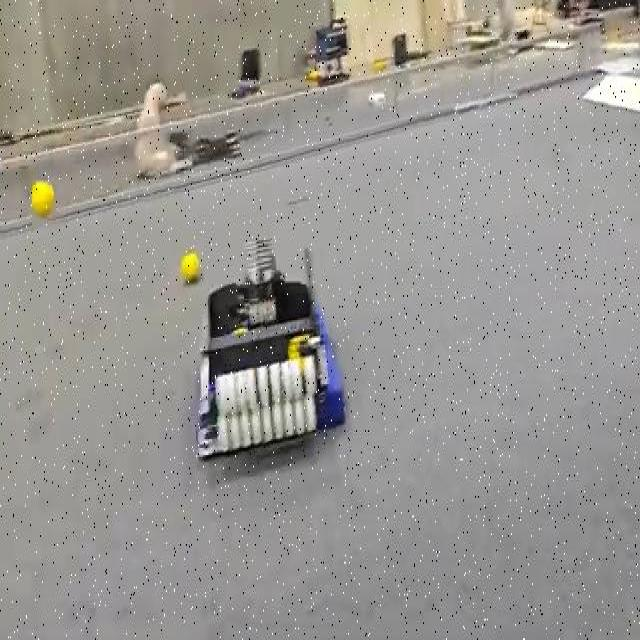Fuel: (31, 181, 54, 217), (180, 250, 200, 284), (180, 252, 199, 282)
